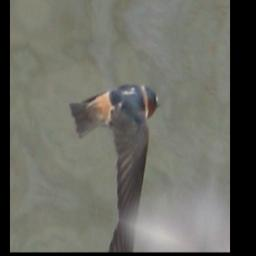Swallow: (56, 53, 164, 229)
